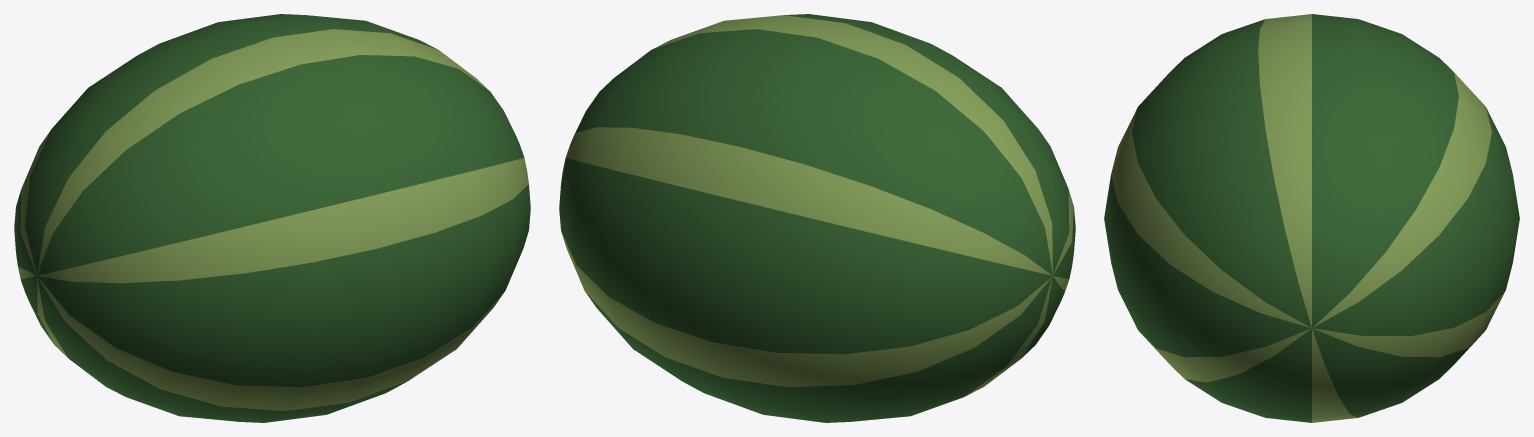
The model's file is watermelon.glb.
3 renders of one model, left to right at view 1: azimuth 30°, elevation 25°; view 2: azimuth 150°, elevation 25°; view 3: azimuth 270°, elevation 25°, orthographic. The views are drawn at different scales.
Visible parts, largest first — view 1: watermelon; view 2: watermelon; view 3: watermelon.
Boxes of the visible parts, left/top/right/bottom form: watermelon: left=14, top=14, right=530, bottom=422; watermelon: left=559, top=14, right=1075, bottom=422; watermelon: left=1104, top=14, right=1519, bottom=422.
Size of the model in its own units: 0.3 by 0.22 by 0.24.
